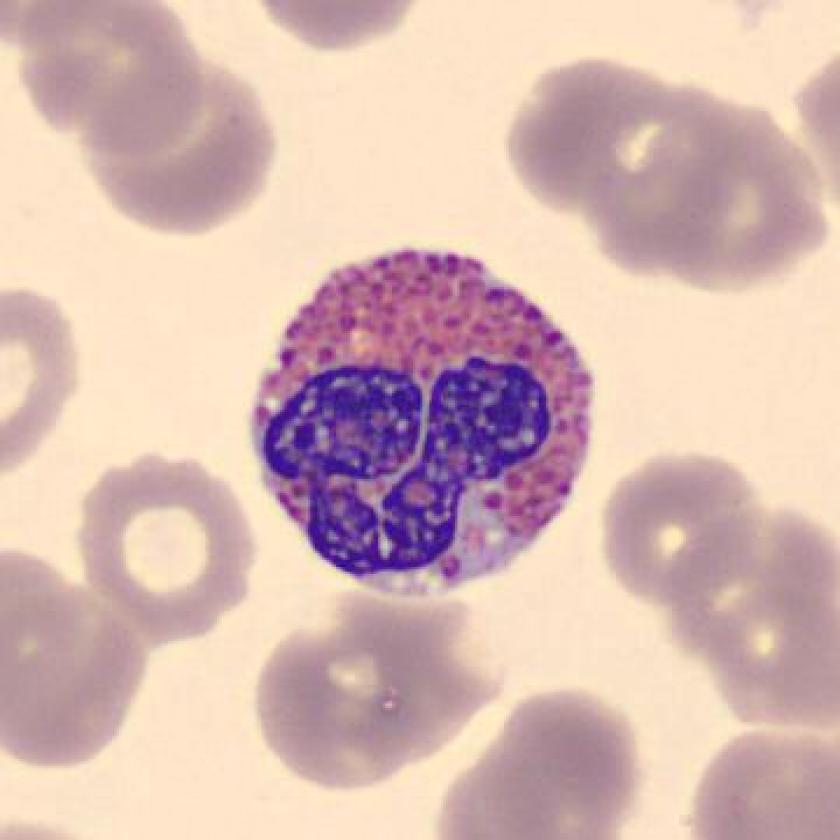eosinophil: (237, 235, 610, 614)
